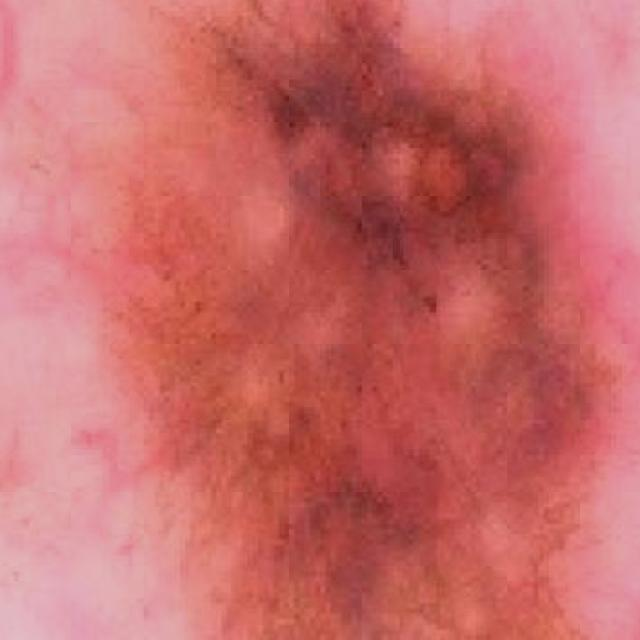MEL: (131, 0, 613, 640)
